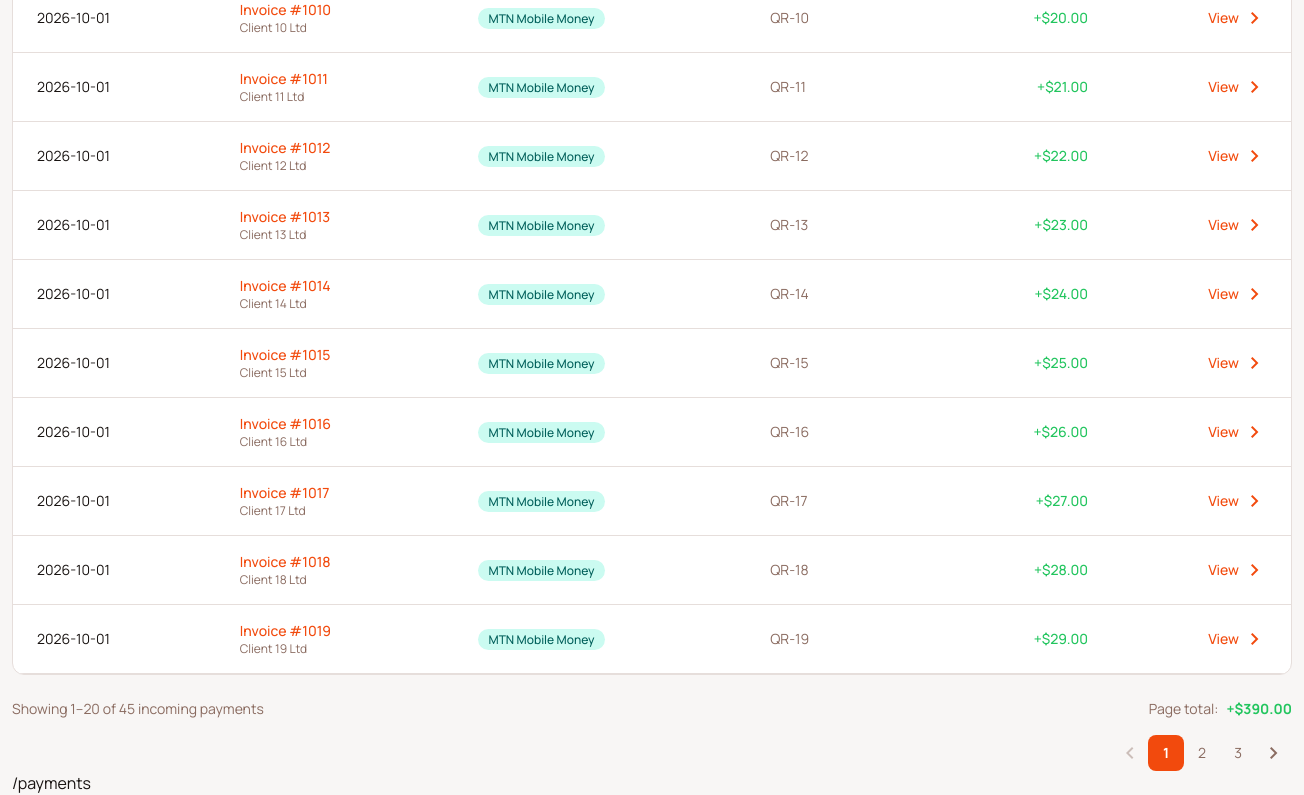
Test: PaymentListPage (SOUPFIN-177) › server pagination › Next requests offset 20 and shows the next rows
(page scrolled)
Step 1. Click the button with test id "pagination-next" → (1274, 753), box [1256, 735, 1292, 771]
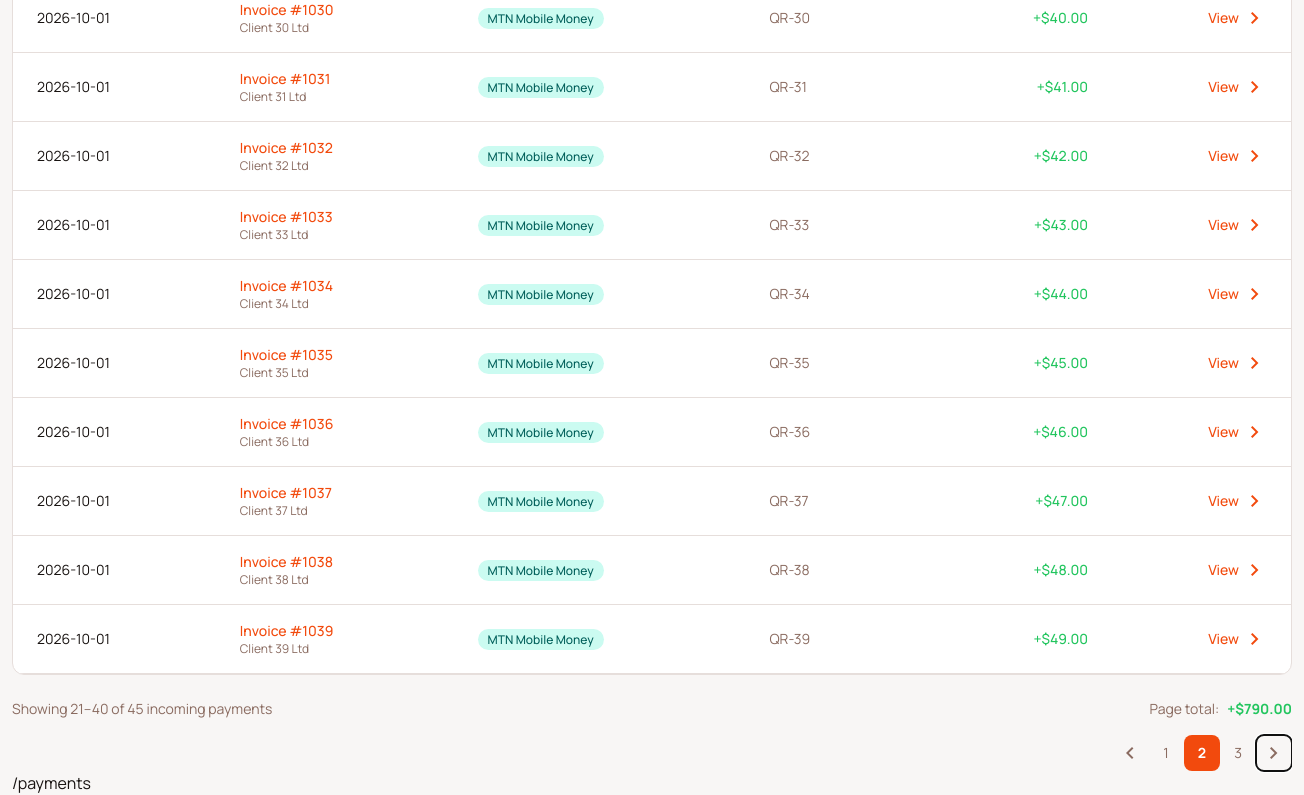
Now the text with test id "pagination-range" shows "Showing 21–40 of 45", box [12, 699, 272, 718]
Step 2. Click the button with test id "pagination-page-3" → (1238, 753), box [1220, 735, 1256, 771]
(page scrolled)
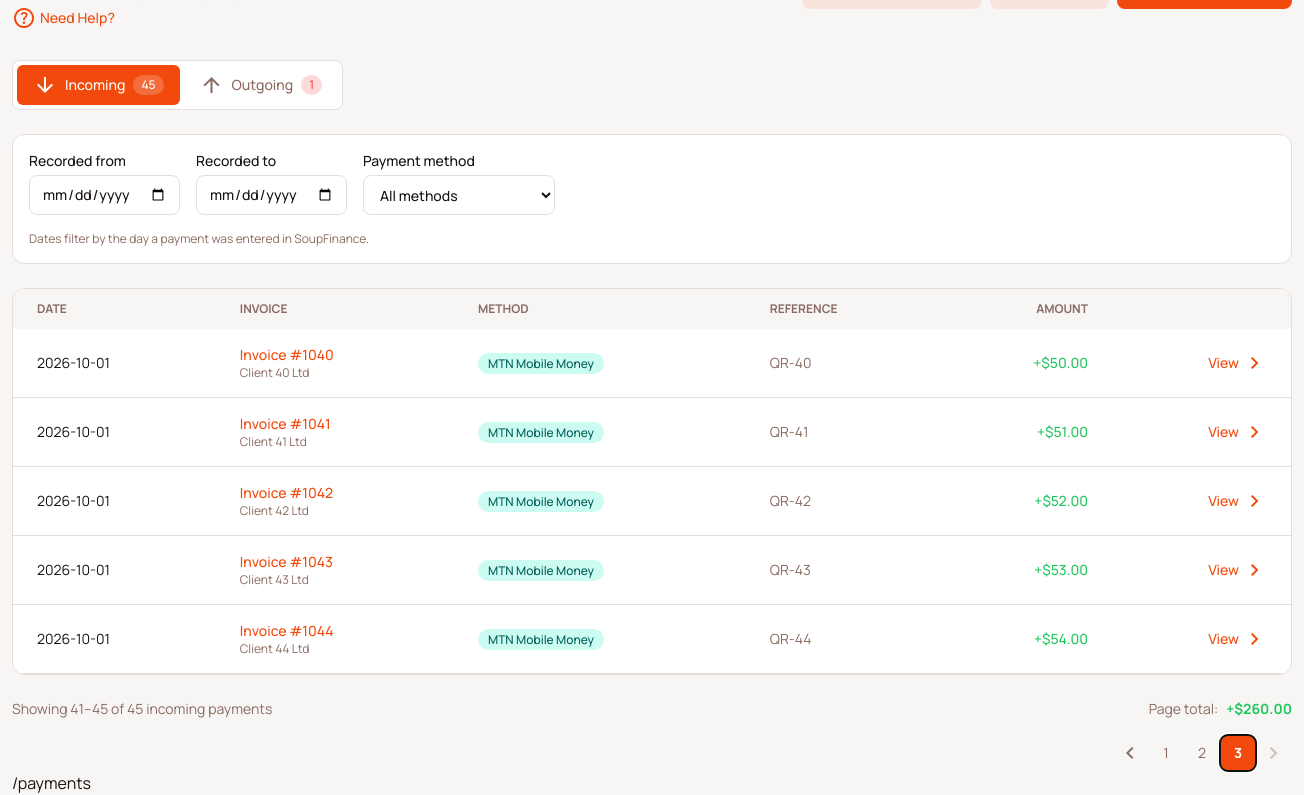
Now the row with test id "payment-row-ip-44" is shown, box [13, 604, 1291, 674]
Now the text with test id "pagination-range" shows "Showing 41–45 of 45", box [12, 699, 272, 718]
Now the button with test id "pagination-next" is disabled, box [1256, 735, 1292, 771]
